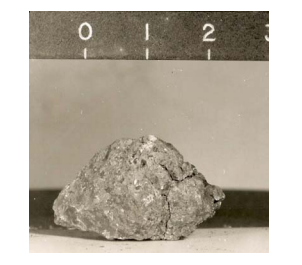Breccia: (39, 118, 228, 247)
